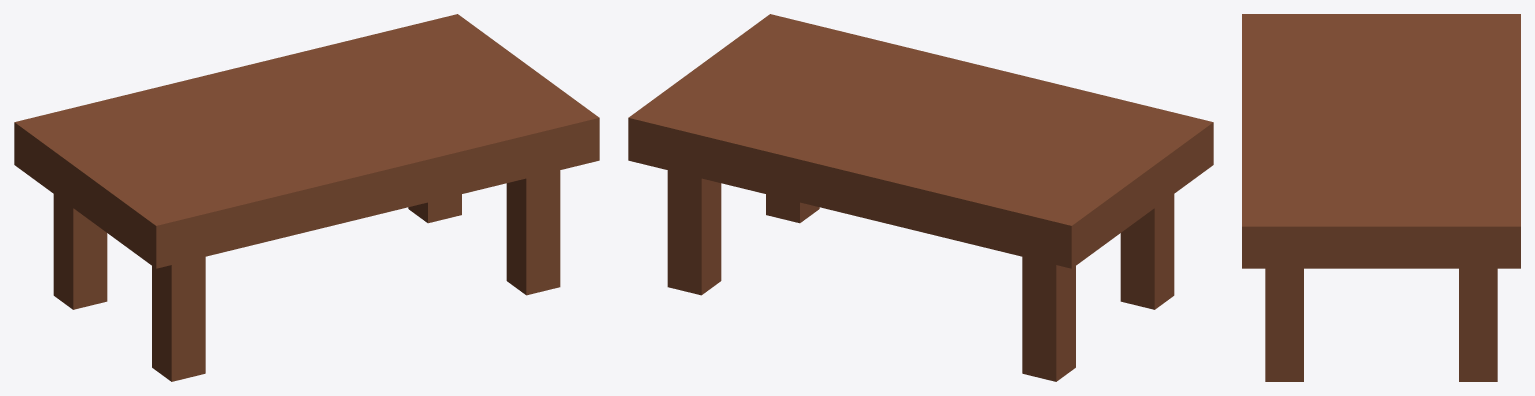
Rendered from coffee_table.glb.
3 renders of one model, left to right at view 1: azimuth 30°, elevation 25°; view 2: azimuth 150°, elevation 25°; view 3: azimuth 270°, elevation 25°, orthographic.
Parts seen in each view (by area): view 1: _MeshInstance3D_76, _MeshInstance3D_82, _MeshInstance3D_80, _MeshInstance3D_79, _MeshInstance3D_81; view 2: _MeshInstance3D_76, _MeshInstance3D_81, _MeshInstance3D_79, _MeshInstance3D_80, _MeshInstance3D_82; view 3: _MeshInstance3D_76, _MeshInstance3D_81, _MeshInstance3D_82.
Boxes of the visible parts, x1,y1,x2,y2 form: _MeshInstance3D_76: (14,14,599,268); _MeshInstance3D_82: (506,170,560,295); _MeshInstance3D_80: (152,257,205,381); _MeshInstance3D_79: (53,194,107,309); _MeshInstance3D_81: (408,194,461,223); _MeshInstance3D_76: (628,14,1213,268); _MeshInstance3D_81: (667,170,721,295); _MeshInstance3D_79: (1022,257,1075,381); _MeshInstance3D_80: (1120,194,1174,309); _MeshInstance3D_82: (766,194,819,223); _MeshInstance3D_76: (1242,14,1520,268); _MeshInstance3D_81: (1459,268,1497,381); _MeshInstance3D_82: (1265,268,1303,381).
Size of the model in its own units: 1.3 by 0.48 by 0.72.
